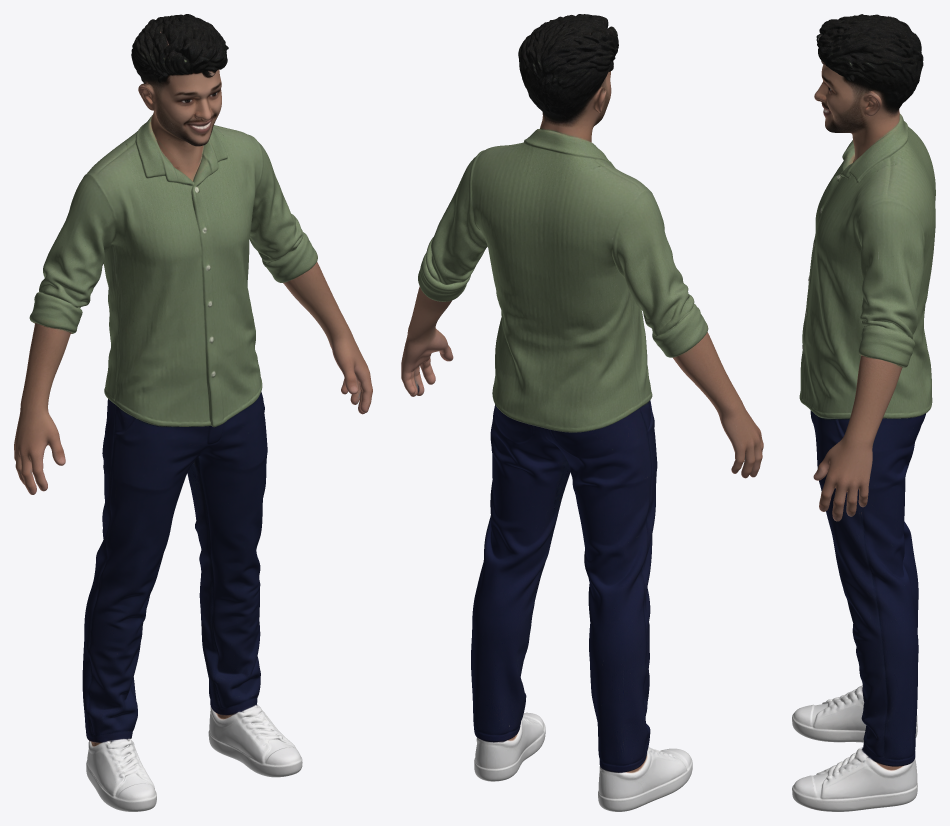
Rendered from character.glb.
The picture shows the model from 3 angles, left to right: view 1: azimuth 30°, elevation 25°; view 2: azimuth 150°, elevation 25°; view 3: azimuth 270°, elevation 25°; orthographic projection.
Size of the model in its own units: 0.9246 by 1.9 by 0.3304.
1 material, 1 textured.
